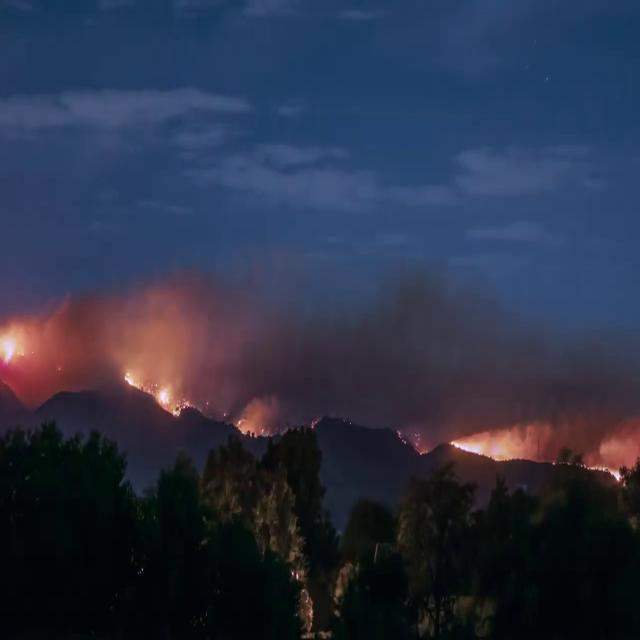Fire: (124, 371, 198, 416), (449, 430, 518, 460), (584, 456, 622, 486), (1, 330, 26, 368), (236, 415, 264, 439), (415, 446, 428, 456), (309, 418, 317, 428)
Smoke: (524, 420, 583, 464), (599, 417, 640, 463), (240, 392, 282, 420)
